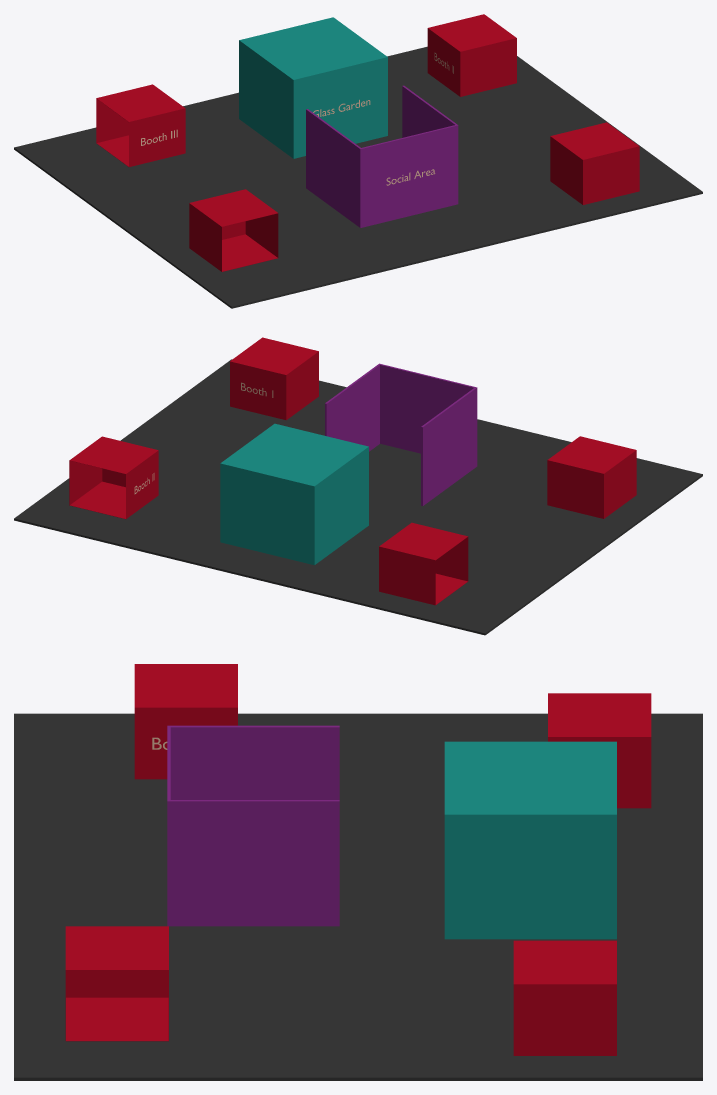
Rendered from demo_model.glb.
The picture shows the model from 3 angles, top to bottom: view 1: azimuth 30°, elevation 25°; view 2: azimuth 150°, elevation 25°; view 3: azimuth 270°, elevation 25°; orthographic projection. The views are drawn at different scales.
Visible parts, largest first — view 1: Floor, Glass_Garden, Social_Area, Booth_4, Booth_1, Booth_2, Booth_3; view 2: Floor, Glass_Garden, Social_Area, Booth_3, Booth_4, Booth_2, Booth_1; view 3: Floor, Social_Area, Glass_Garden, Booth_1, Booth_2, Booth_4, Booth_3.
Part boxes in pixels (left/top/right/bottom): Floor: left=14, top=46, right=702, bottom=308; Glass_Garden: left=239, top=17, right=387, bottom=158; Social_Area: left=306, top=85, right=458, bottom=227; Booth_4: left=189, top=189, right=278, bottom=271; Booth_1: left=550, top=122, right=639, bottom=204; Booth_2: left=427, top=14, right=516, bottom=96; Booth_3: left=96, top=84, right=185, bottom=166; Floor: left=14, top=359, right=702, bottom=635; Glass_Garden: left=220, top=423, right=368, bottom=565; Social_Area: left=325, top=363, right=477, bottom=505; Booth_3: left=379, top=522, right=468, bottom=605; Booth_4: left=547, top=436, right=636, bottom=518; Booth_2: left=69, top=436, right=158, bottom=519; Booth_1: left=230, top=337, right=318, bottom=420; Floor: left=14, top=713, right=702, bottom=1080; Social_Area: left=167, top=725, right=339, bottom=926; Glass_Garden: left=444, top=741, right=616, bottom=939; Booth_1: left=65, top=926, right=168, bottom=1041; Booth_2: left=513, top=940, right=616, bottom=1055; Booth_4: left=134, top=664, right=237, bottom=779; Booth_3: left=548, top=693, right=651, bottom=808.
Size of the model in its own units: 25 by 4.1 by 20.
